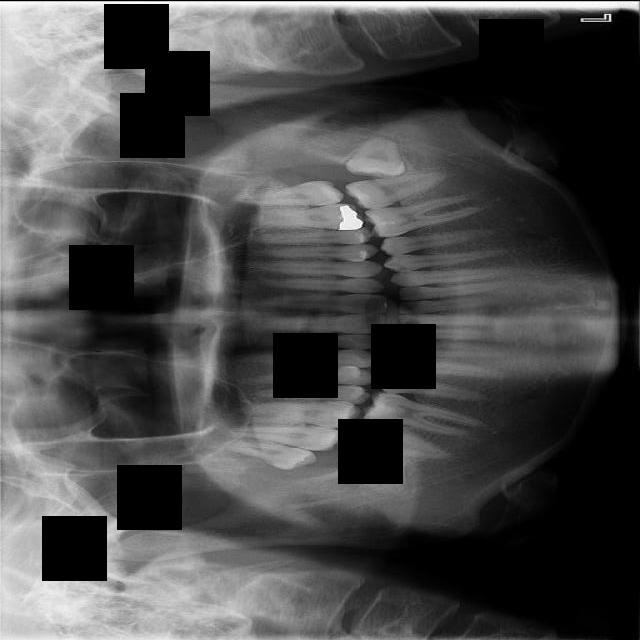3M ESPE Implant: (224, 435, 318, 474)
52: (359, 196, 409, 246), (317, 201, 365, 230)
73: (591, 26, 605, 38)
BioHorizons Implant: (231, 180, 344, 205)
Biomet 3i Implant: (344, 132, 409, 180)
Blue Sky Bio Implant: (344, 168, 451, 213)
Caries: (227, 420, 343, 451)
Implant: (345, 417, 456, 465)
Keystone Dental Implant: (335, 444, 410, 497)
